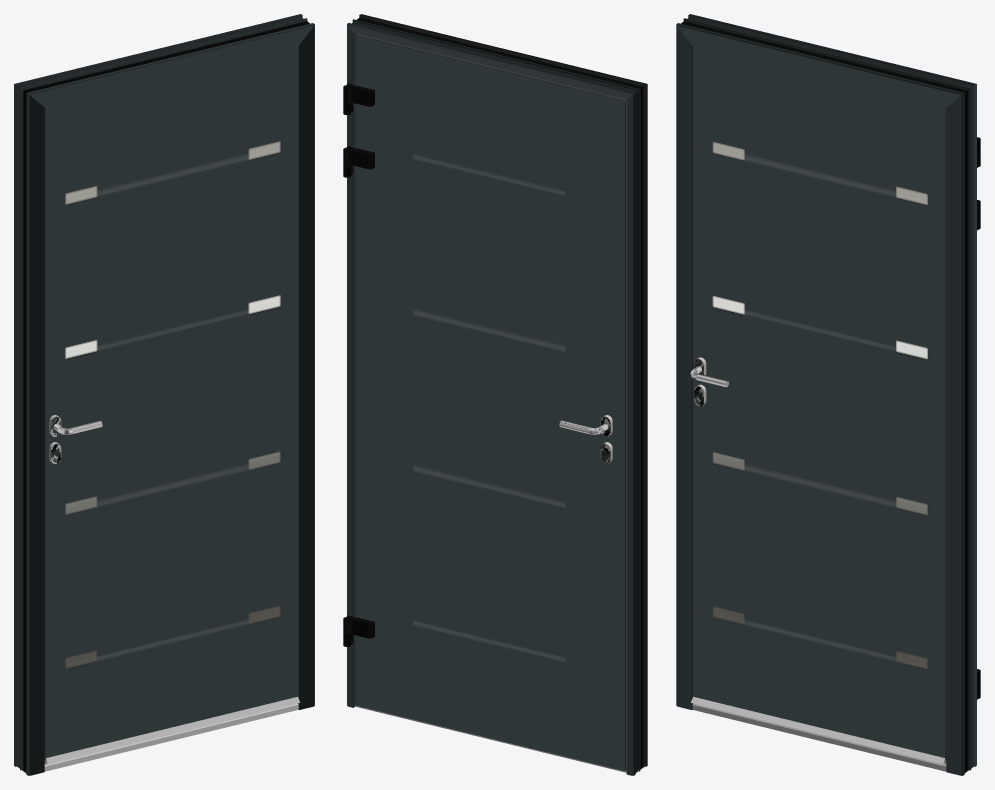
3 views of the same model, side by side, from view 1: azimuth 30°, elevation 25°; view 2: azimuth 150°, elevation 25°; view 3: azimuth 330°, elevation 25° (orthographic).
Parts seen in each view (by area): view 1: ouvrant, 85; view 2: ouvrant, 85; view 3: ouvrant, 85.
Part boxes in pixels (x1,y1,x2,y2): ouvrant: (44, 46, 300, 764); 85: (14, 14, 314, 775); ouvrant: (343, 34, 626, 770); 85: (343, 14, 647, 775); ouvrant: (691, 46, 980, 764); 85: (676, 14, 980, 775).
Bounding box in the file's own units: 96 × 218 × 22.64.
1 material, 1 textured.
